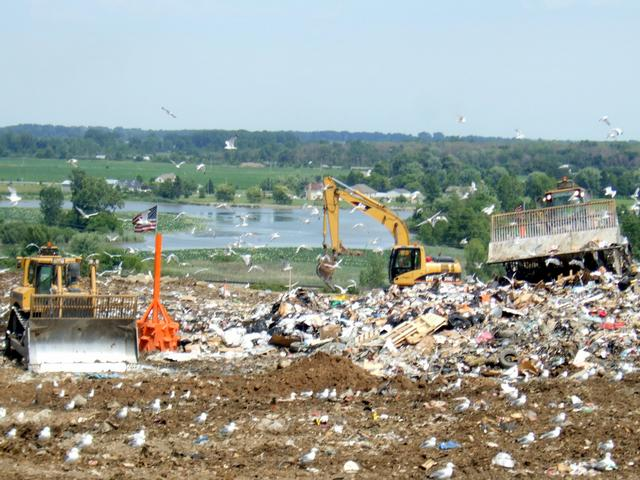garbage: (347, 293, 622, 375)
